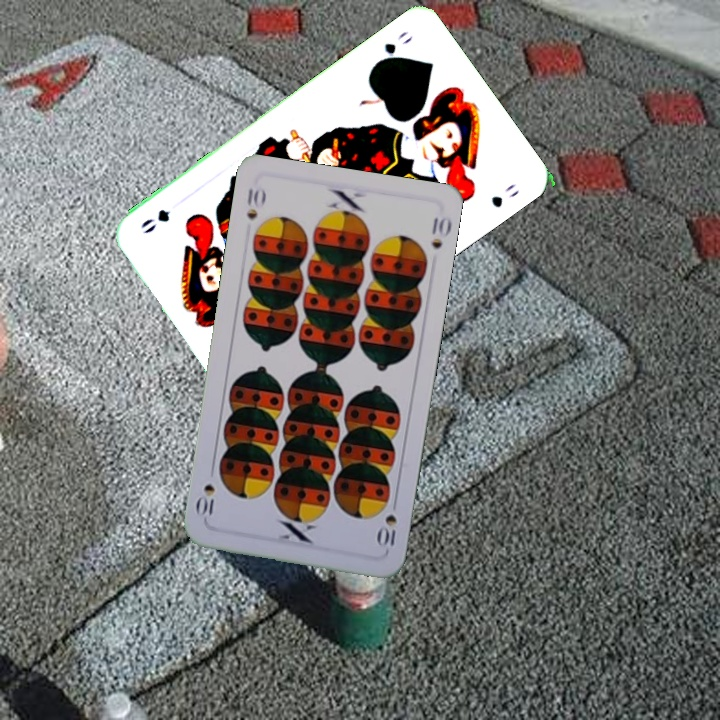GO: (370, 26, 416, 70)
S10: (374, 494, 400, 549), (243, 184, 268, 222)
